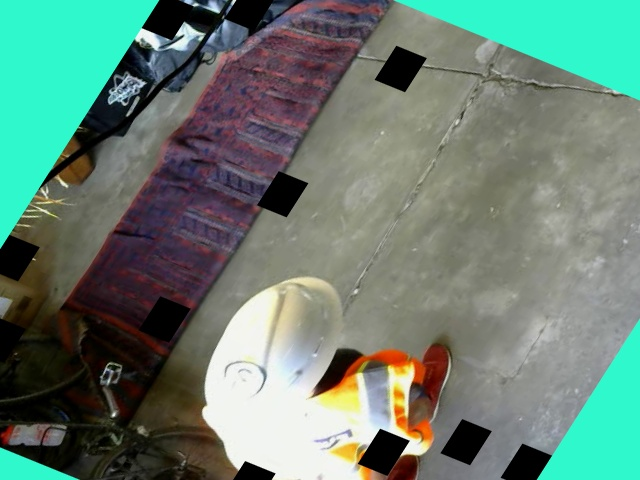three: (211, 354, 272, 405)
